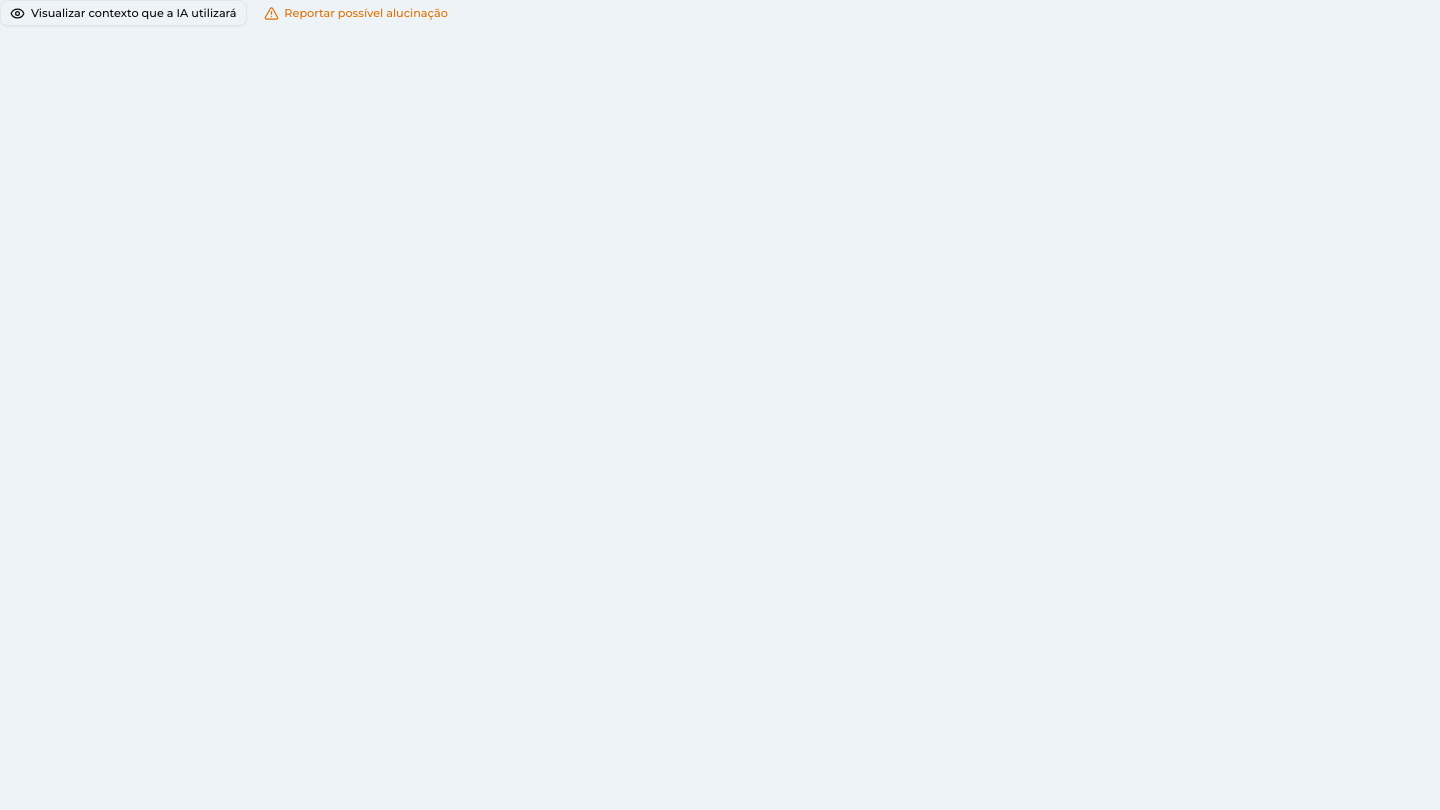
Test: MemoryContextPreview › abre a prévia, chama o backend com um clientActionId novo e mostra as camadas
The width and height of the screenshot is (1440, 810).
Click the button "Visualizar contexto que a IA utilizará": (123, 13) left=0, top=0, right=247, bottom=26
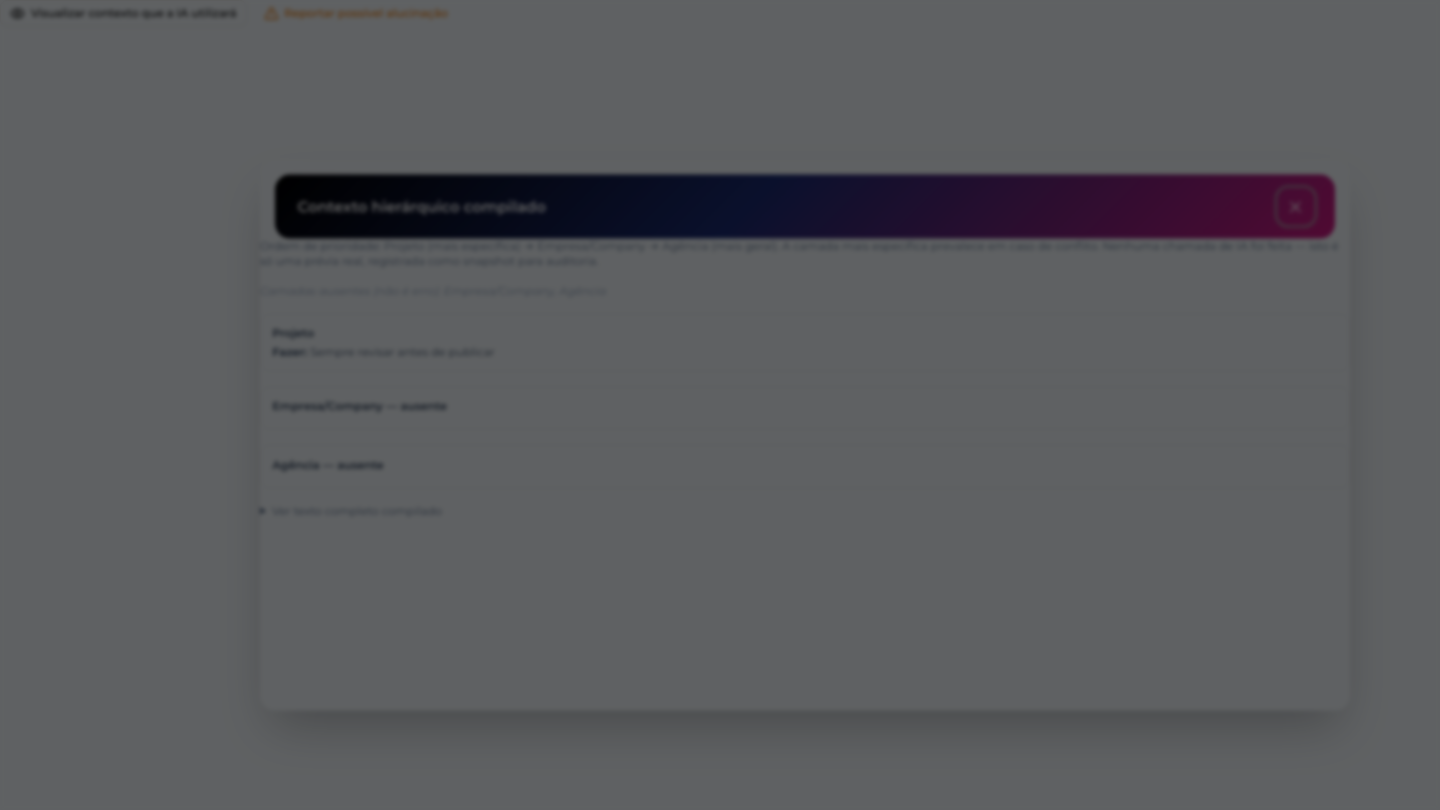
Result: the text "Contexto hierárquico compilado" is shown at left=298, top=196, right=546, bottom=215
